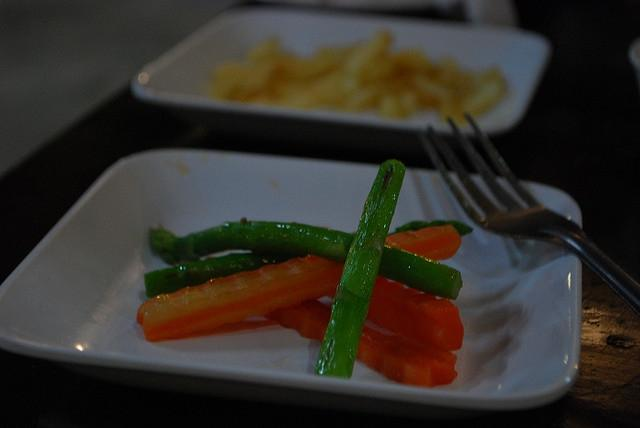carrot: (137, 224, 462, 342), (264, 298, 458, 388), (327, 276, 464, 352)
green bean: (148, 221, 464, 301), (314, 160, 406, 378), (144, 252, 304, 300)
